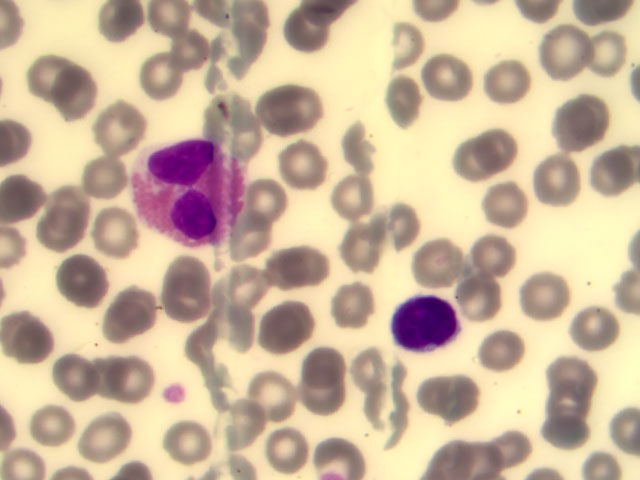Platelets: (162, 384, 184, 404)
RBC: (24, 53, 75, 97), (59, 74, 110, 118), (90, 104, 141, 148), (78, 155, 129, 199), (49, 179, 100, 223), (29, 208, 80, 252), (84, 209, 135, 253), (60, 253, 111, 297), (17, 320, 68, 364), (52, 354, 103, 398), (100, 359, 151, 403), (107, 297, 158, 341), (155, 281, 206, 325), (170, 246, 221, 290), (224, 261, 275, 305), (210, 298, 261, 342), (270, 300, 321, 344), (275, 241, 326, 285), (247, 211, 298, 255), (247, 181, 298, 225), (274, 133, 325, 177), (271, 87, 322, 131), (213, 89, 264, 133), (168, 24, 219, 68), (132, 49, 183, 93), (280, 10, 331, 54), (375, 75, 426, 119), (384, 23, 435, 67), (426, 58, 477, 102), (486, 59, 537, 103), (544, 30, 595, 74), (581, 29, 632, 73), (558, 100, 609, 144), (486, 128, 537, 172), (444, 136, 495, 180), (335, 173, 386, 217), (393, 197, 444, 241), (342, 230, 393, 274), (456, 274, 507, 318), (523, 274, 574, 318), (478, 326, 529, 370), (571, 306, 622, 350), (548, 352, 599, 396), (547, 381, 598, 425), (536, 414, 587, 458), (436, 377, 487, 421), (300, 345, 351, 389), (325, 281, 376, 325), (294, 382, 345, 426), (244, 373, 295, 417), (240, 398, 291, 442), (160, 419, 211, 463), (83, 413, 134, 457), (36, 402, 87, 446), (262, 428, 313, 472), (485, 424, 536, 468), (589, 151, 640, 195), (533, 158, 584, 202), (482, 180, 533, 224), (1, 181, 51, 225), (415, 240, 465, 284), (143, 1, 194, 44), (98, 1, 149, 44), (470, 231, 518, 272)
WBC: (131, 140, 245, 247), (396, 291, 458, 353)
